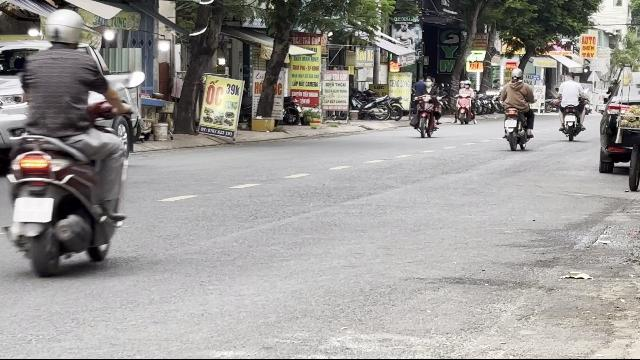helmet: (44, 8, 88, 48)
licenseplate: (13, 197, 51, 221)
motorcyclist: (1, 5, 135, 275)
